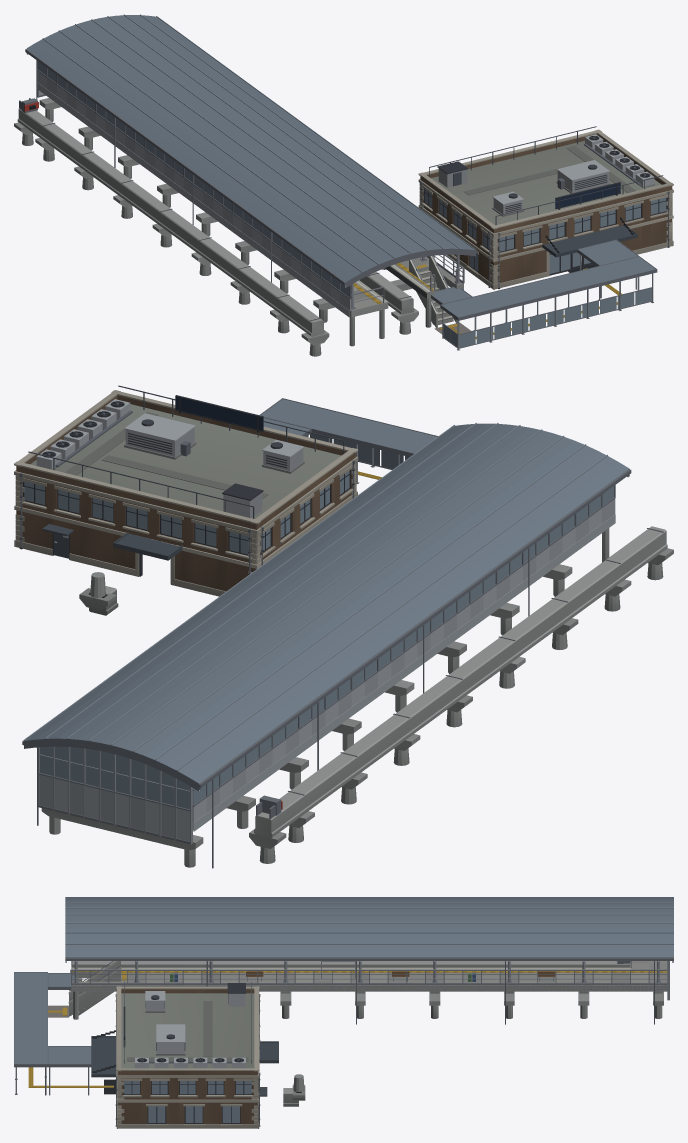
Rendered from station.glb.
3 views of the same model, one above another, from view 1: azimuth 30°, elevation 25°; view 2: azimuth 150°, elevation 25°; view 3: azimuth 270°, elevation 25° (orthographic). The views are drawn at different scales.
Parts seen in each view (by area): view 1: sh_roof, sh_concrete, st_metal, sh_metal, st_walls, st_stone, wk_roof, sh_glass, st_glass, st_fine; view 2: sh_roof, st_metal, sh_concrete, sh_metal, st_walls, st_stone, sh_glass, wk_roof, st_glass, st_fine; view 3: sh_roof, sh_concrete, st_metal, sh_metal, st_stone, wk_roof, st_walls, sh_fine, st_glass, st_fine.
Boxes of the visible parts, left/top/right/bottom form: sh_roof: left=25, top=14, right=476, bottom=287; sh_concrete: left=14, top=98, right=622, bottom=356; st_metal: left=420, top=134, right=669, bottom=288; sh_metal: left=19, top=61, right=653, bottom=350; st_walls: left=420, top=133, right=672, bottom=282; st_stone: left=418, top=129, right=673, bottom=289; wk_roof: left=431, top=239, right=657, bottom=320; sh_glass: left=38, top=61, right=651, bottom=347; st_glass: left=425, top=189, right=666, bottom=273; st_fine: left=421, top=126, right=669, bottom=281; sh_roof: left=22, top=422, right=631, bottom=868; st_metal: left=19, top=395, right=355, bottom=583; sh_concrete: left=41, top=471, right=673, bottom=867; sh_metal: left=37, top=434, right=615, bottom=844; st_walls: left=16, top=395, right=355, bottom=591; st_stone: left=14, top=390, right=358, bottom=596; sh_glass: left=40, top=433, right=614, bottom=809; wk_roof: left=259, top=398, right=438, bottom=456; st_glass: left=24, top=470, right=349, bottom=554; st_fine: left=19, top=385, right=355, bottom=574; sh_roof: left=65, top=897, right=673, bottom=1024; sh_concrete: left=28, top=961, right=667, bottom=1087; st_metal: left=91, top=983, right=278, bottom=1126; sh_metal: left=15, top=961, right=669, bottom=1095; st_stone: left=116, top=986, right=259, bottom=1128; wk_roof: left=14, top=972, right=91, bottom=1067; st_walls: left=117, top=989, right=257, bottom=1123; sh_fine: left=72, top=971, right=667, bottom=981; st_glass: left=124, top=1081, right=251, bottom=1122; st_fine: left=92, top=982, right=260, bottom=1119.
Bounding box in the file's own units: 27.68 × 6.61 × 42.5.
